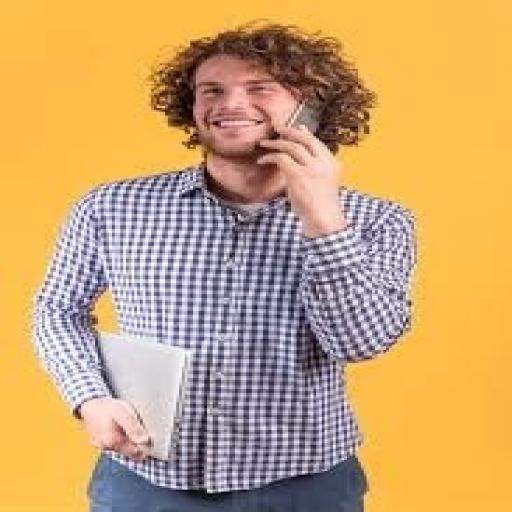calling: (28, 19, 420, 510)
